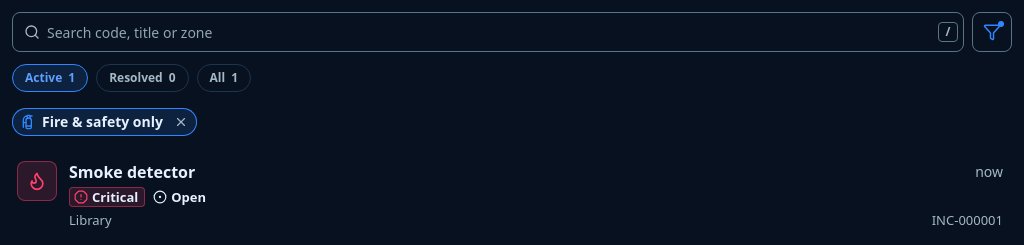
IncidentFeed › category filter › names the category in a search that finds nothing, with no second way back
In the search field named "Search incidents": coordinates (488, 32) top-left (12, 12), bottom-right (964, 52), type "door"
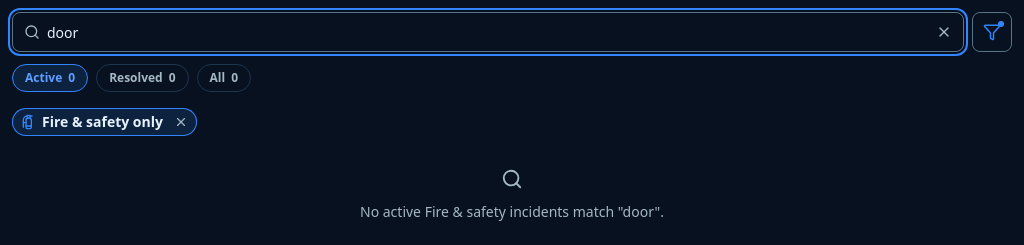
Result: the text "No active Fire & safety incidents match \"door\"." is shown at top-left (360, 202), bottom-right (664, 222)
